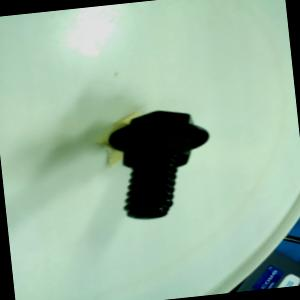parafuso: (103, 103, 218, 222), (105, 104, 218, 222)
